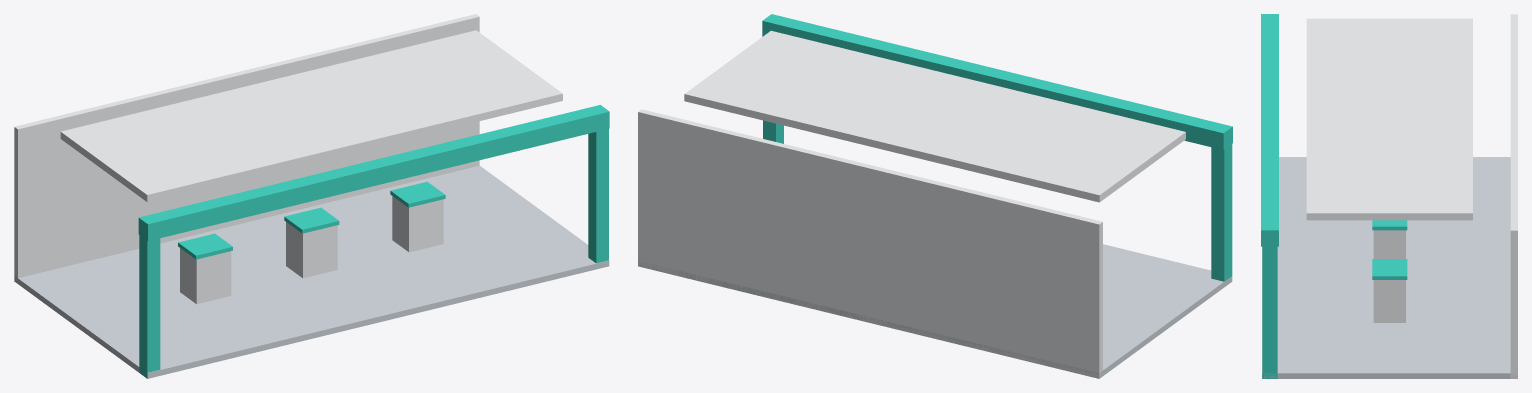
3 views of the same model, side by side, from view 1: azimuth 30°, elevation 25°; view 2: azimuth 150°, elevation 25°; view 3: azimuth 270°, elevation 25° (orthographic). The views are drawn at different scales.
Parts seen in each view (by area): view 1: Exhibition Booth Concept; view 2: Exhibition Booth Concept; view 3: Exhibition Booth Concept.
Boxes of the visible parts, x1,y1,x2,y2 form: Exhibition Booth Concept: [14, 14, 609, 378]; Exhibition Booth Concept: [638, 14, 1232, 378]; Exhibition Booth Concept: [1261, 14, 1517, 378].
Bounding box in the file's own units: 10 × 3.34 × 5.02.
